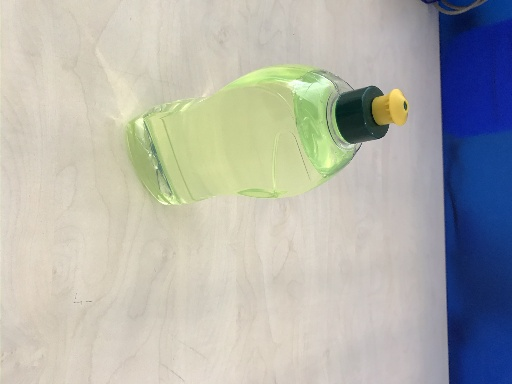Sapone: (126, 64, 409, 206)
